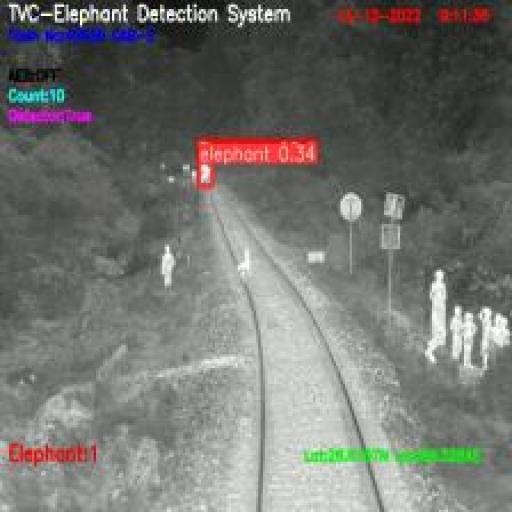Elephant: (199, 162, 211, 188)
